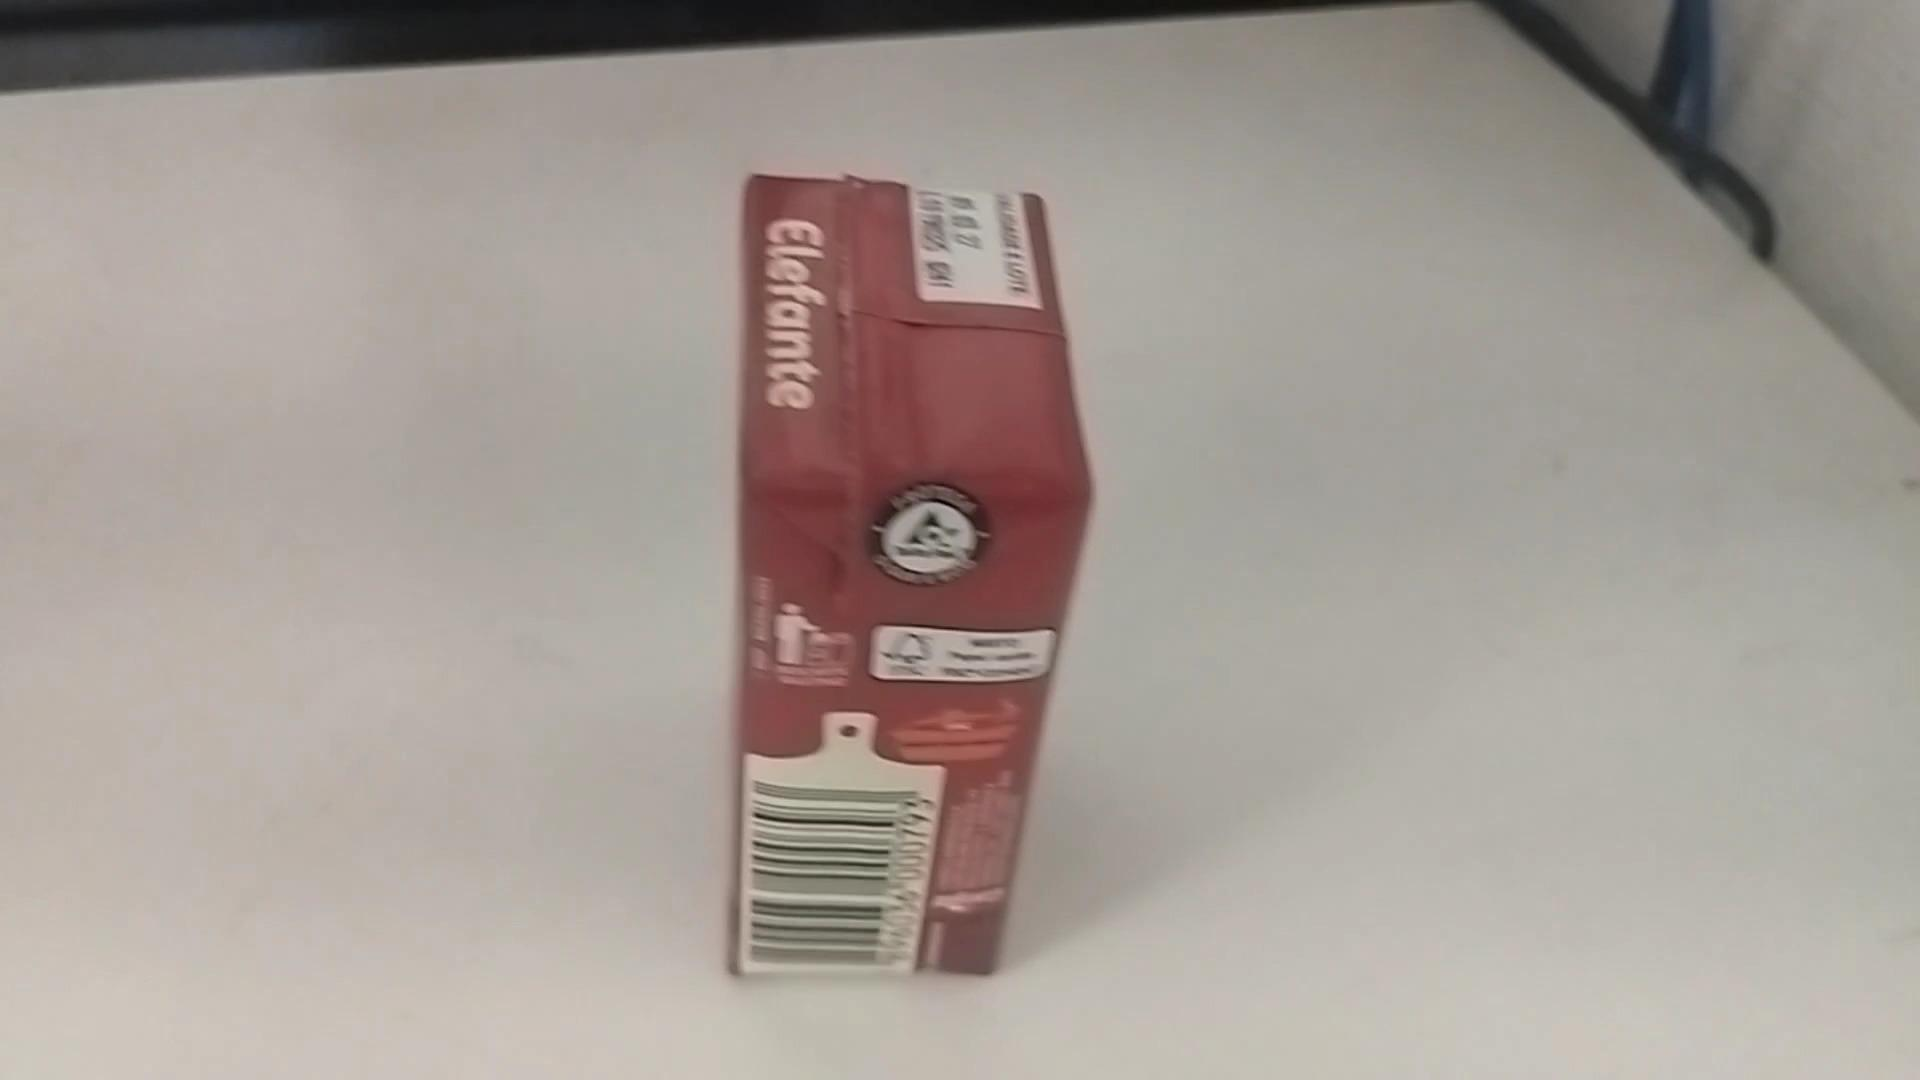tomate: (723, 160, 1109, 988)
